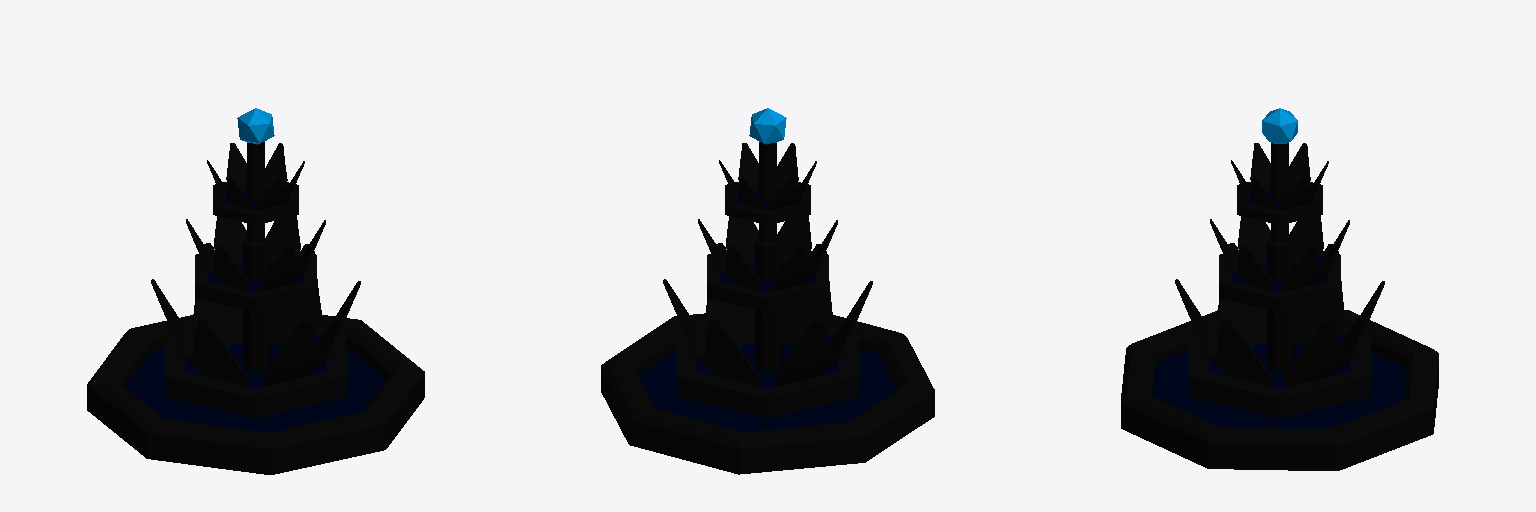
Rendered from ShieldTurret.obj.
3 views of the same model, side by side, from view 1: azimuth 30°, elevation 25°; view 2: azimuth 150°, elevation 25°; view 3: azimuth 270°, elevation 25° (orthographic).
Visible parts, largest first — view 1: BaseShieldTurret1, Gun1ShieldTurret1, Gun2ShieldTurret1, Gun3ShieldTurret1, MiddleShieldTurret1, StorageShieldTurret1; view 2: BaseShieldTurret1, Gun1ShieldTurret1, Gun2ShieldTurret1, Gun3ShieldTurret1, MiddleShieldTurret1, StorageShieldTurret1; view 3: BaseShieldTurret1, Gun1ShieldTurret1, Gun2ShieldTurret1, Gun3ShieldTurret1, MiddleShieldTurret1, StorageShieldTurret1.
Part boxes in pixels (bbox=[...]): BaseShieldTurret1: bbox=[87, 315, 424, 474]; Gun1ShieldTurret1: bbox=[151, 243, 360, 418]; Gun2ShieldTurret1: bbox=[186, 216, 325, 312]; Gun3ShieldTurret1: bbox=[207, 143, 304, 224]; MiddleShieldTurret1: bbox=[243, 142, 268, 370]; StorageShieldTurret1: bbox=[237, 108, 274, 144]; BaseShieldTurret1: bbox=[601, 313, 934, 474]; Gun1ShieldTurret1: bbox=[663, 243, 872, 418]; Gun2ShieldTurret1: bbox=[698, 216, 837, 312]; Gun3ShieldTurret1: bbox=[719, 143, 816, 224]; MiddleShieldTurret1: bbox=[755, 142, 780, 370]; StorageShieldTurret1: bbox=[749, 108, 786, 144]; BaseShieldTurret1: bbox=[1121, 310, 1438, 470]; Gun1ShieldTurret1: bbox=[1175, 243, 1384, 418]; Gun2ShieldTurret1: bbox=[1210, 216, 1349, 312]; Gun3ShieldTurret1: bbox=[1231, 143, 1328, 224]; MiddleShieldTurret1: bbox=[1267, 143, 1292, 370]; StorageShieldTurret1: bbox=[1262, 108, 1297, 143].
Size of the model in its own units: 3.69 by 3.78 by 3.69.